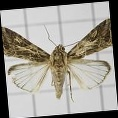Spodoptera litura: (5, 20, 114, 104)
